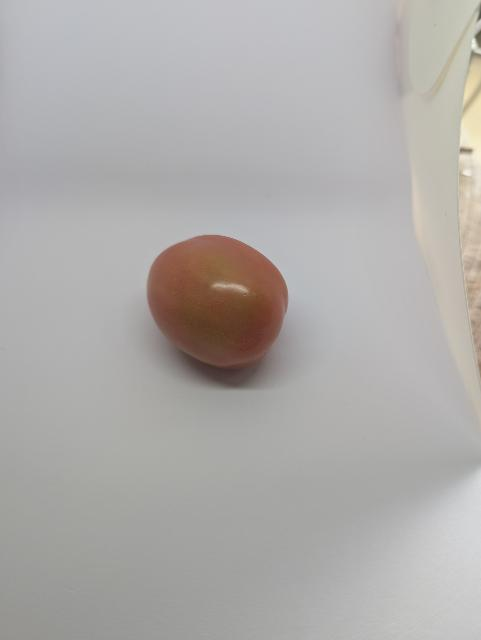turning: (130, 227, 299, 372)
